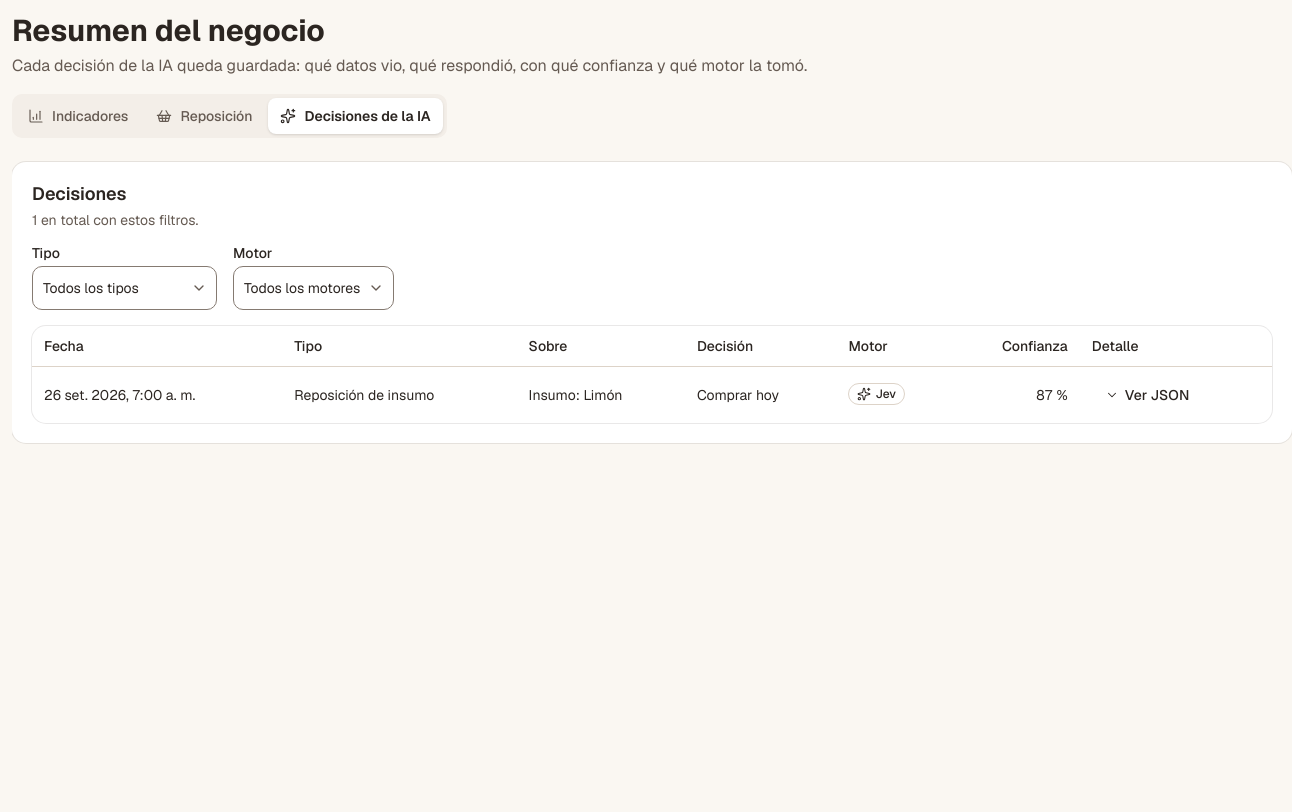
Test: AiAuditView › «Ver JSON» muestra lo que vio el motor y lo que respondió
The image size is (1292, 812).
Click the button "Ver JSON" at (1147, 395), box [1092, 377, 1202, 413]
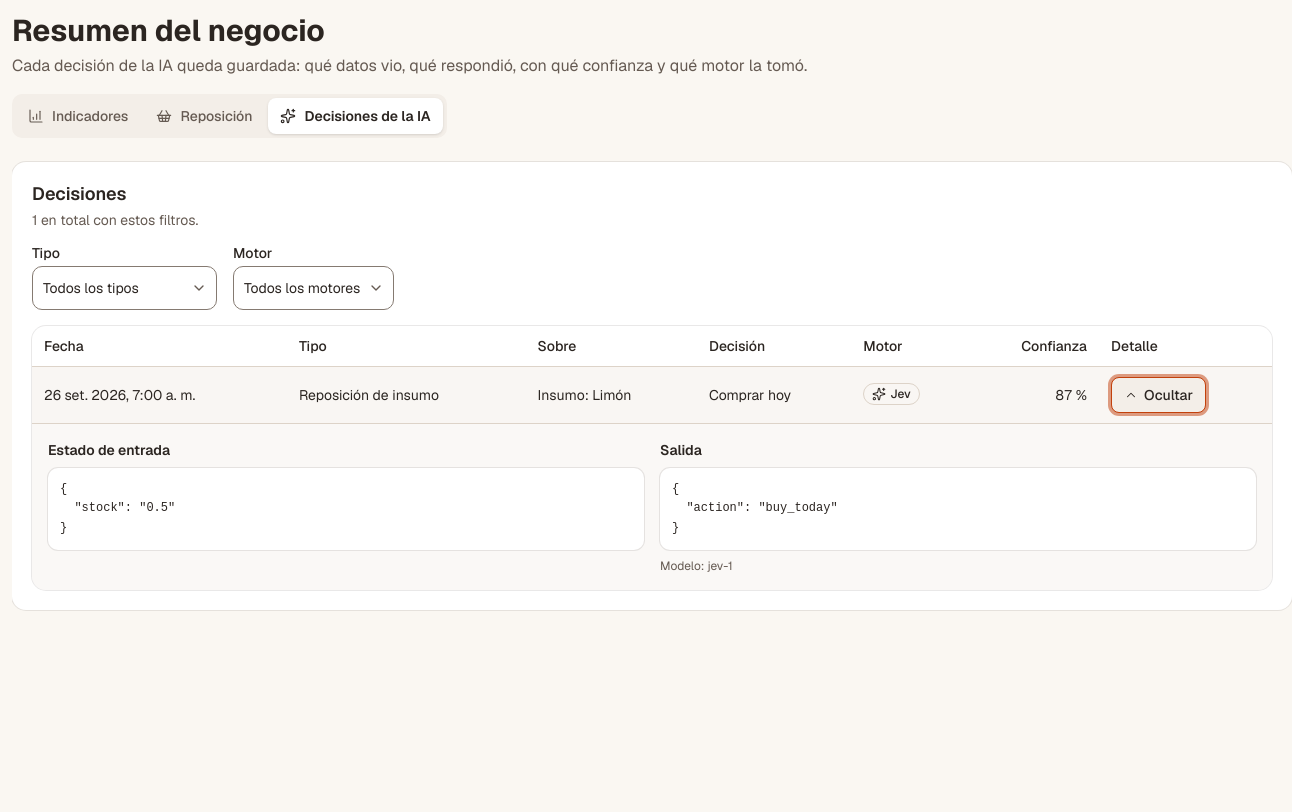
Check: the heading "Estado de entrada" is shown, box [48, 441, 170, 459]
Check: the text "{ \"stock\": \"0.5\" }" is shown, box [48, 468, 644, 550]
Check: the text "{ \"action\": \"buy_today\" }" is shown, box [660, 468, 1256, 550]
